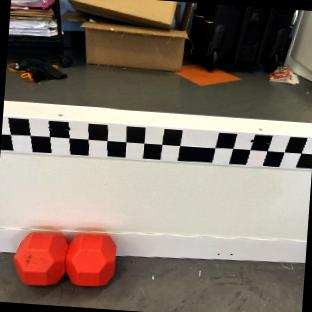V5_RED: (13, 231, 116, 287)
